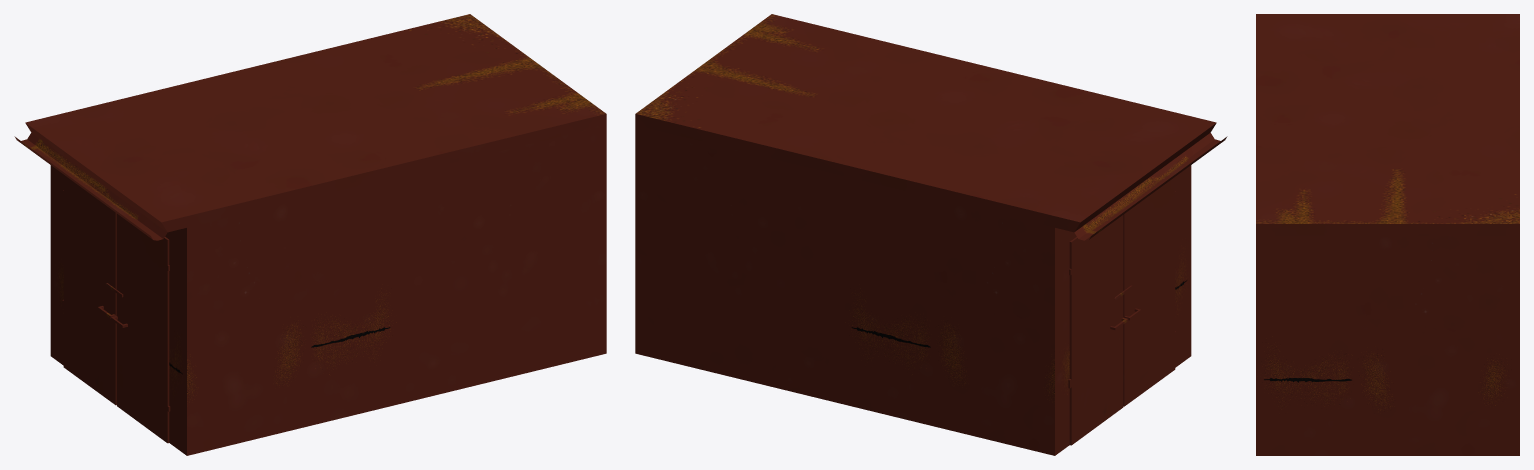
Rendered from Model_Garaz_B.fbx.
3 renders of one model, left to right at view 1: azimuth 30°, elevation 25°; view 2: azimuth 150°, elevation 25°; view 3: azimuth 270°, elevation 25°, orthographic. The views are drawn at different scales.
Visible parts, largest first — view 1: Czerwony; view 2: Czerwony; view 3: Czerwony.
Boxes of the visible parts, x1,y1,x2,y2 form: Czerwony: (14,14,606,455); Czerwony: (635,14,1227,455); Czerwony: (1256,14,1519,455).
Bounding box in the file's own units: 256 × 248 × 493.
